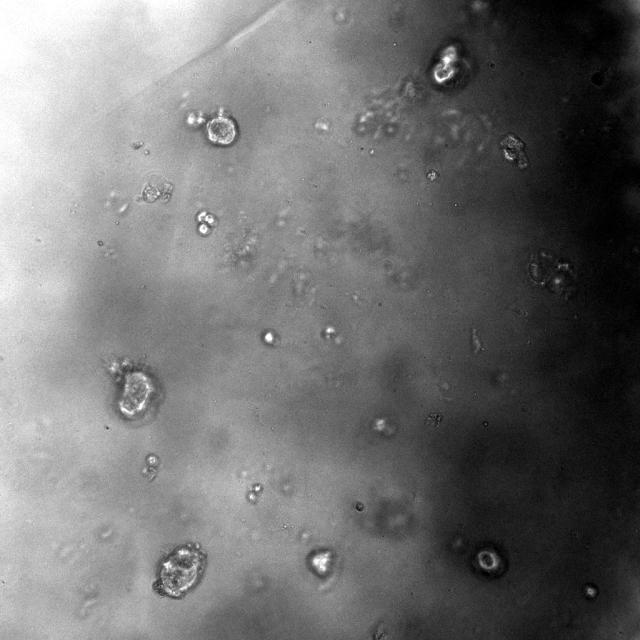organoid: (152, 542, 207, 599), (108, 359, 158, 420), (528, 250, 576, 297), (429, 42, 471, 90), (186, 108, 239, 146), (472, 545, 508, 579), (138, 173, 173, 203), (501, 133, 528, 168), (307, 548, 336, 579), (196, 209, 218, 235), (141, 453, 159, 482), (246, 482, 263, 503), (354, 501, 365, 512)
